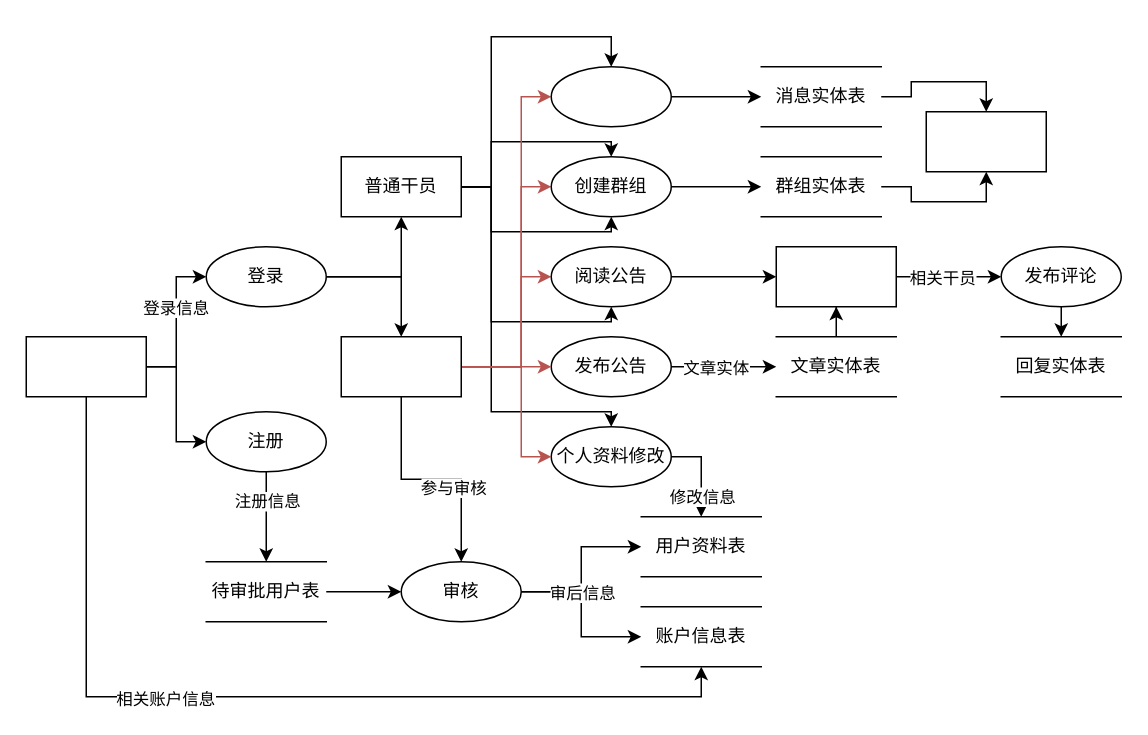
This 1148x735 diagram has some shape labels left out. The shapes that lost their labels are listed below. From the top down, each one's centre as x and y in pixels, then its label:
At [610,96]: "发送消息".
At [985,141]: "群组".
At [835,276]: "公告文章".
At [85,366]: "干员".
At [400,366]: "高层干员".
